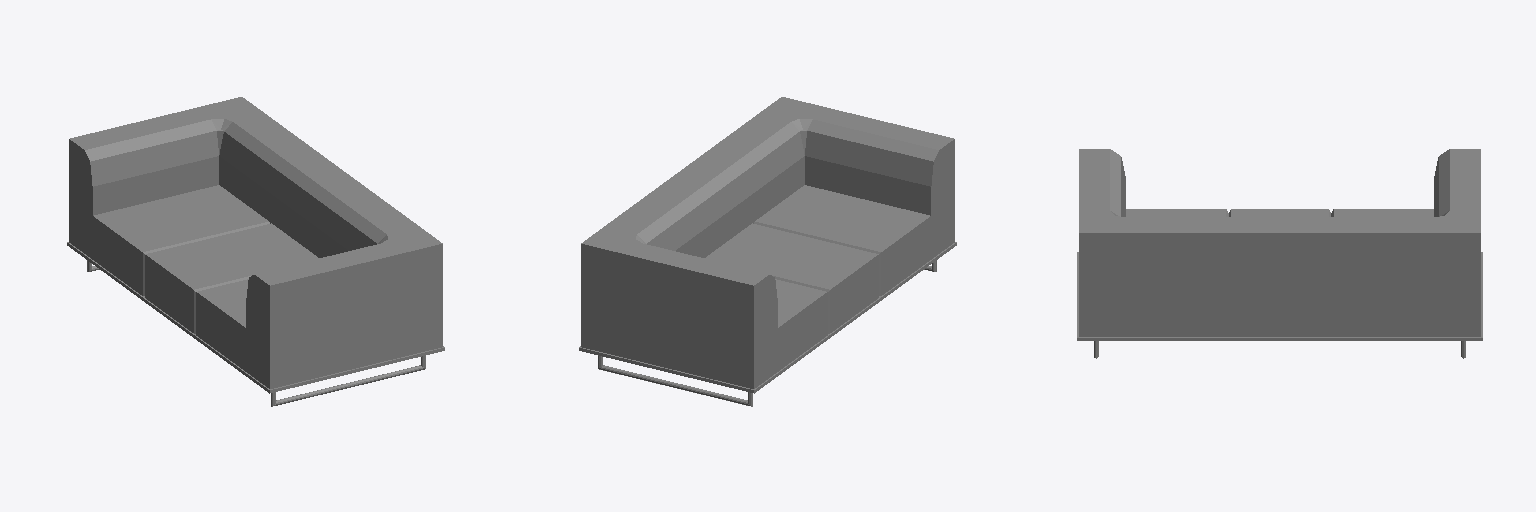
The model's file is Couch.obj.
The picture shows the model from 3 angles: view 1: azimuth 30°, elevation 25°; view 2: azimuth 150°, elevation 25°; view 3: azimuth 270°, elevation 25°; orthographic projection.
Visible parts, largest first — view 1: Sofa; view 2: Sofa; view 3: Sofa.
Part boxes in pixels (x1,y1,x2,y2): Sofa: (67,97,444,406); Sofa: (579,97,956,406); Sofa: (1077,149,1482,358).
Size of the model in its own units: 133 by 93.85 by 266.